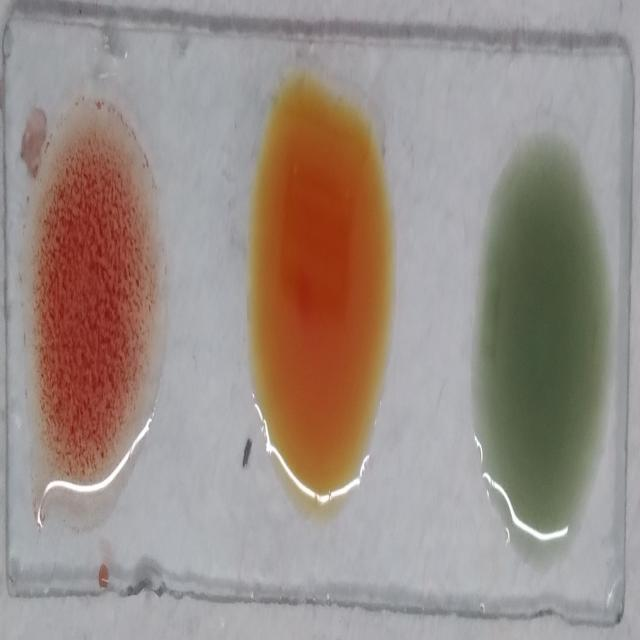D: (29, 95, 163, 507)
